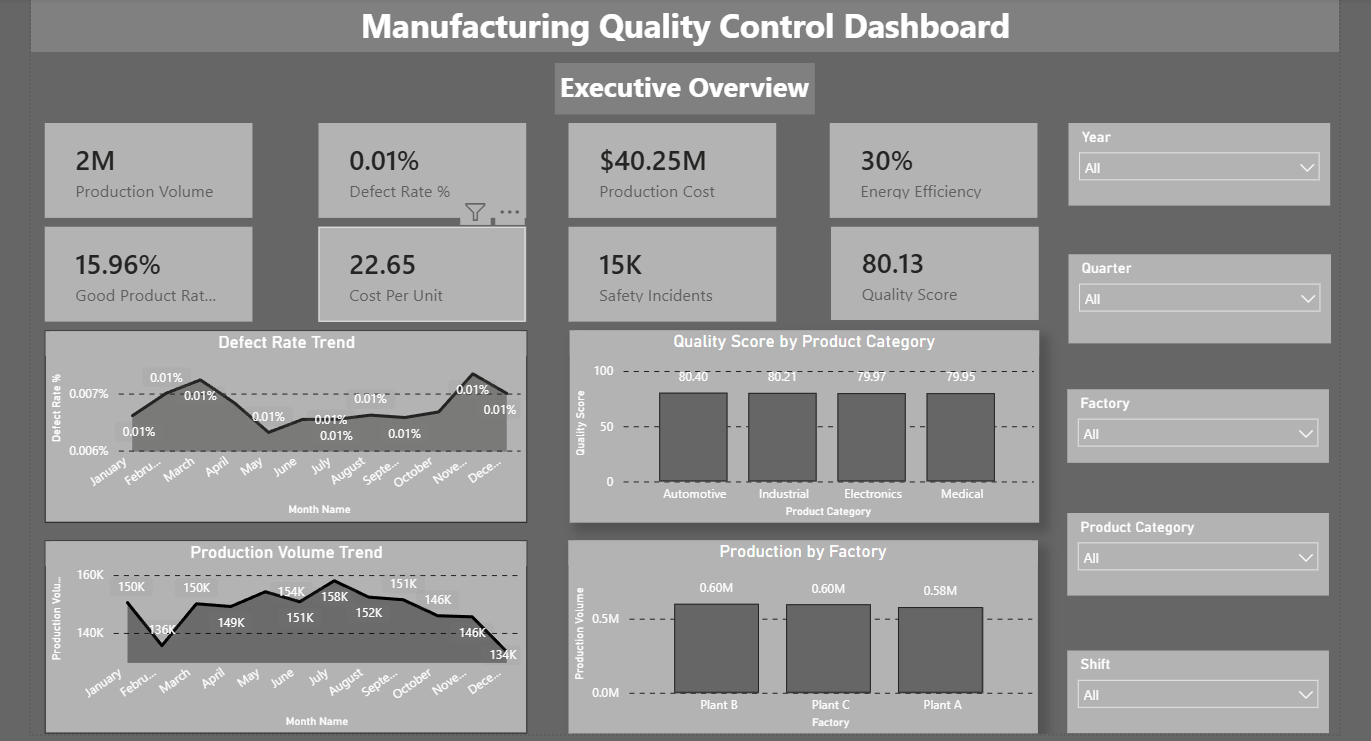

This screenshot's page, from the dashboard's own definition file:
{"tool":"powerbi","page":{"name":"Executive Overview","canvas":[1280,720],"ordinal":0},"visuals":[{"type":"cardVisual","fields":{"Data":["Measure_Table.Total Production Volume"]},"box":[12.9,122.1,203.1,92.5],"z":0},{"type":"cardVisual","fields":{"Data":["Measure_Table.Total Production Cost"]},"box":[525.7,122.1,203.1,92.5],"z":1000},{"type":"cardVisual","fields":{"Data":["Measure_Table.Average Energy Efficiency"]},"box":[781.5,122.1,203.1,92.5],"z":2000},{"type":"cardVisual","fields":{"Data":["Measure_Table.Defect Rate %"]},"box":[281.5,122.1,203.1,92.5],"z":3000},{"type":"cardVisual","fields":{"Data":["Measure_Table.Good Product Rate %"]},"box":[12.9,223.7,203.1,92.5],"z":4000},{"type":"cardVisual","fields":{"Data":["Measure_Table.Average Quality Score"]},"box":[782.8,223.7,203.1,91.3],"z":5000},{"type":"cardVisual","fields":{"Data":["Measure_Table.Cost Per Unit"]},"box":[281.5,223.7,203.1,92.5],"z":6000},{"type":"cardVisual","fields":{"Data":["Measure_Table.Total Safety Incidents"]},"box":[525.7,223.7,203.1,92.5],"z":7000},{"type":"lineChart","title":"Production Volume Trend","fields":{"Category":["Dim_Date.Month Name"],"Y":["Measure_Table.Total Production Volume"]},"box":[12.9,530.9,471.7,189],"z":8000},{"type":"lineChart","title":"Defect Rate Trend","fields":{"Category":["Dim_Date.Month Name"],"Y":["Measure_Table.Defect Rate %"]},"box":[12.9,325.2,471.7,187.7],"z":9000},{"type":"clusteredColumnChart","title":"Production by Factory","fields":{"Y":["Measure_Table.Total Production Volume"],"Category":["Dim_Factory.Factory"]},"box":[525.7,530.9,458.9,189],"z":10000},{"type":"columnChart","title":"Quality Score by Product Category","fields":{"Category":["Dim_Product.Product Category"],"Y":["Measure_Table.Average Quality Score"]},"box":[527,325.2,458.9,187.7],"z":11000},{"type":"slicer","fields":{"Values":["Dim_Date.Year"]},"box":[1015.5,122.1,255.8,81],"z":12000},{"type":"slicer","fields":{"Values":["Dim_Date.Quarter"]},"box":[1015,250.7,256.8,86.8],"z":13000},{"type":"slicer","fields":{"Values":["Dim_Factory.Factory"]},"box":[1014.2,383.1,255.8,72],"z":14000},{"type":"slicer","fields":{"Values":["Dim_Shift.Shift"]},"box":[1014.2,638.8,255.8,81],"z":15000},{"type":"slicer","fields":{"Values":["Dim_Product.Product Category"]},"box":[1014.2,503.9,255.8,81],"z":16000},{"type":"textbox","box":[0,0,1280.3,52.7],"z":17000},{"type":"textbox","box":[512.9,63,254.5,50.1],"z":18000}]}

Visuals, with their boxes in screenshot pixels (x1, y1, x2, y2):
cardVisual - Measure_Table.Total Production Volume: <box>45,121,252,215</box>
cardVisual - Measure_Table.Total Production Cost: <box>567,121,773,215</box>
cardVisual - Measure_Table.Average Energy Efficiency: <box>827,121,1034,215</box>
cardVisual - Measure_Table.Defect Rate %: <box>318,121,525,215</box>
cardVisual - Measure_Table.Good Product Rate %: <box>45,224,252,318</box>
cardVisual - Measure_Table.Average Quality Score: <box>828,224,1035,317</box>
cardVisual - Measure_Table.Cost Per Unit: <box>318,224,525,318</box>
cardVisual - Measure_Table.Total Safety Incidents: <box>567,224,773,318</box>
"Production Volume Trend" lineChart: <box>45,536,525,729</box>
"Defect Rate Trend" lineChart: <box>45,327,525,518</box>
"Production by Factory" clusteredColumnChart: <box>567,536,1034,729</box>
"Quality Score by Product Category" columnChart: <box>568,327,1035,518</box>
slicer - Dim_Date.Year: <box>1065,121,1325,203</box>
slicer - Dim_Date.Quarter: <box>1065,251,1326,340</box>
slicer - Dim_Factory.Factory: <box>1064,386,1324,459</box>
slicer - Dim_Shift.Shift: <box>1064,646,1324,729</box>
slicer - Dim_Product.Product Category: <box>1064,509,1324,591</box>
textbox: <box>32,0,1334,50</box>
textbox: <box>554,61,813,111</box>
